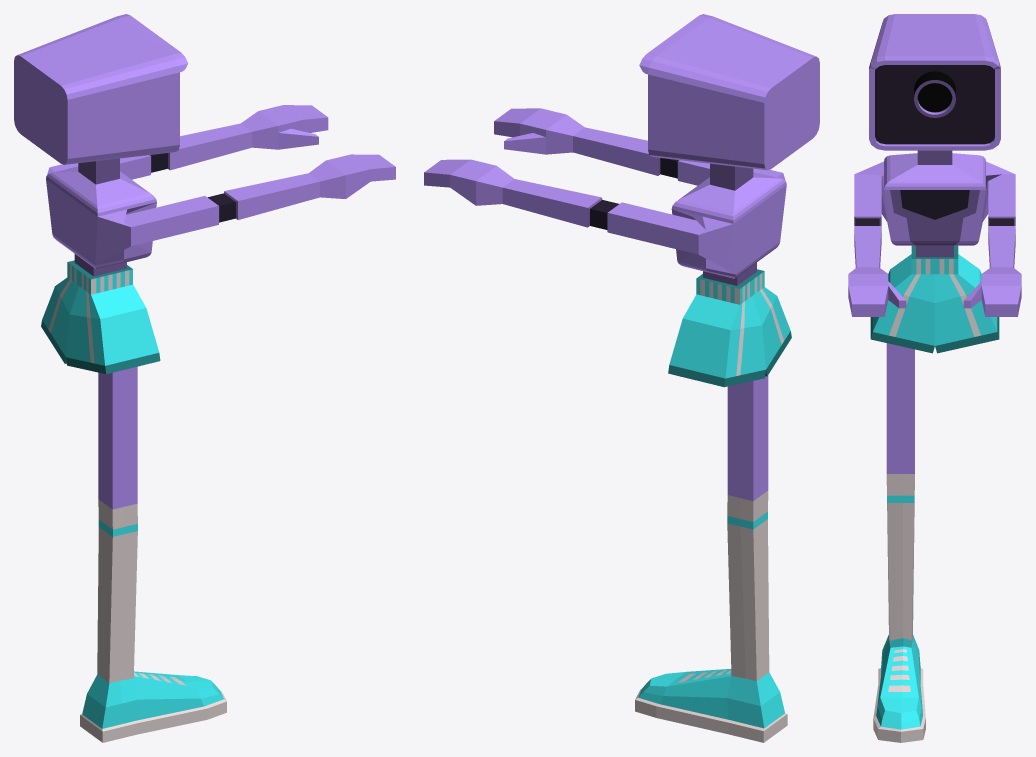
Rendered from Robot 1.fbx.
3 renders of one model, left to right at view 1: azimuth 30°, elevation 25°; view 2: azimuth 150°, elevation 25°; view 3: azimuth 270°, elevation 25°, orthographic. The views are drawn at different scales.
Visible parts, largest first — view 1: Torso, OikeaSääri, Shorts, OikeaReisi; view 2: Torso, OikeaSääri, Shorts, OikeaReisi; view 3: Torso, OikeaSääri, Shorts, OikeaReisi.
Boxes of the visible parts, x1,y1,x2,y2 form: Torso: (14,14,395,276); OikeaSääri: (80,499,226,742); Shorts: (41,260,160,374); OikeaReisi: (98,366,137,509); Torso: (424,14,819,285); OikeaSääri: (635,490,787,742); Shorts: (668,269,791,387); OikeaReisi: (727,375,768,501); Torso: (848,14,1021,316); OikeaSääri: (873,474,925,742); Shorts: (870,245,999,353); OikeaReisi: (886,343,914,473).
Size of the model in its own units: 684 by 1394 by 332.
